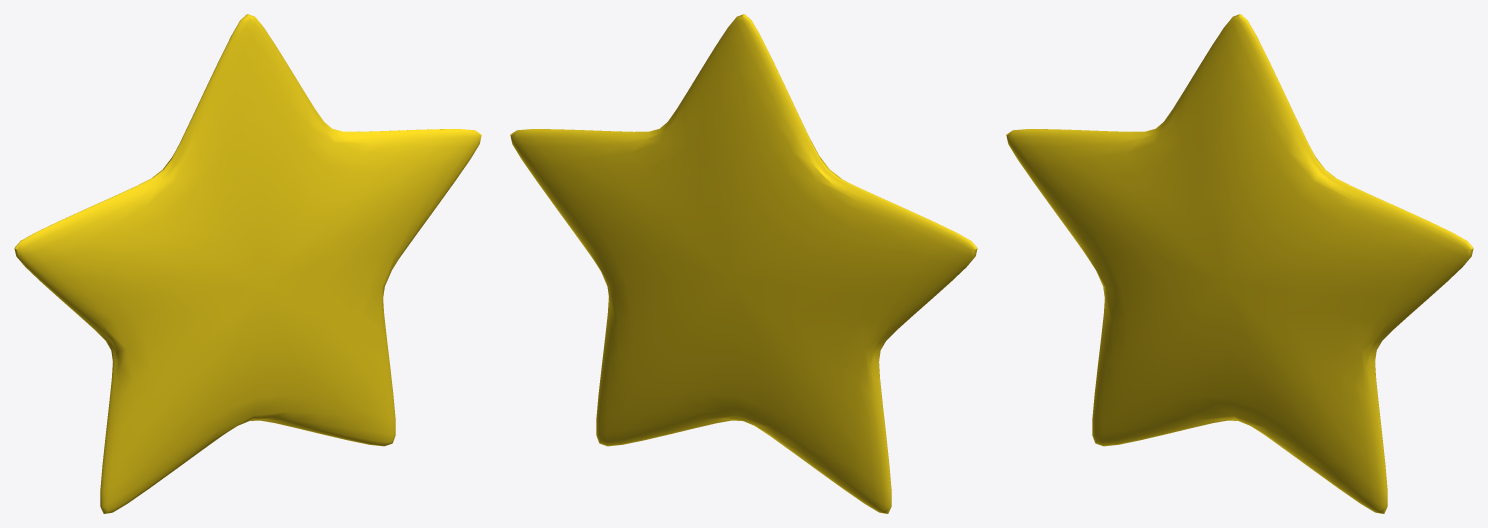
File: star.fbx
3 views of the same model, side by side, from view 1: azimuth 30°, elevation 25°; view 2: azimuth 150°, elevation 25°; view 3: azimuth 330°, elevation 25° (orthographic).
Parts seen in each view (by area): view 1: star; view 2: star; view 3: star.
Part boxes in pixels (x1=…): star: x1=14, y1=14, x2=481, y2=513; star: x1=510, y1=14, x2=977, y2=513; star: x1=1006, y1=14, x2=1473, y2=513.
Size of the model in its own units: 28.92 by 27.55 by 2.86.
